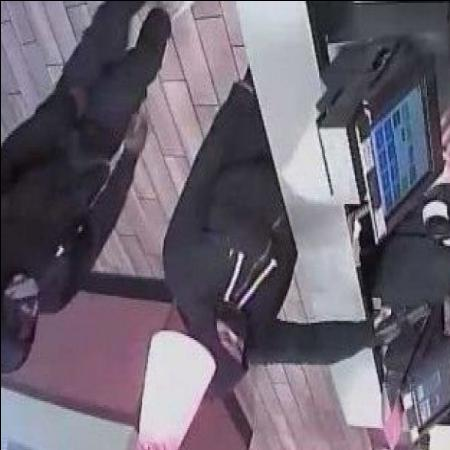Pistol: (376, 297, 426, 350)
